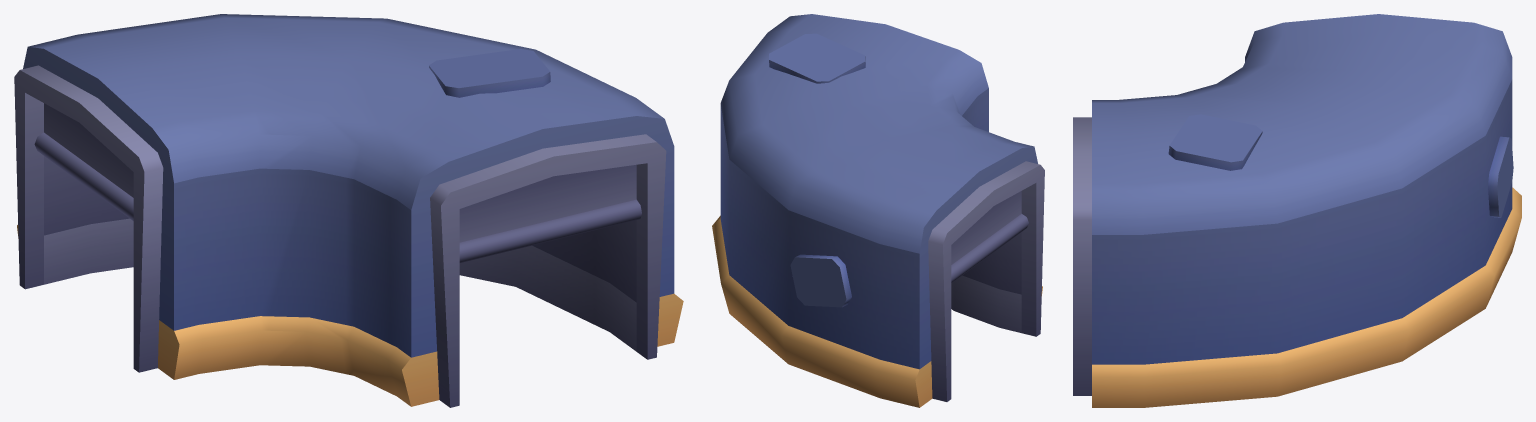
Rendered from machine-bed.glb.
3 views of the same model, side by side, from view 1: azimuth 30°, elevation 25°; view 2: azimuth 150°, elevation 25°; view 3: azimuth 270°, elevation 25° (orthographic). The views are drawn at different scales.
Visible parts, largest first — view 1: machine-bed; view 2: machine-bed; view 3: machine-bed.
Boxes of the visible parts, x1,y1,x2,y2 form: machine-bed: [14, 14, 683, 407]; machine-bed: [712, 14, 1044, 407]; machine-bed: [1073, 14, 1521, 407].
Bounding box in the file's own units: 2.35 × 1.3 × 2.35.
1 material, 1 textured.
